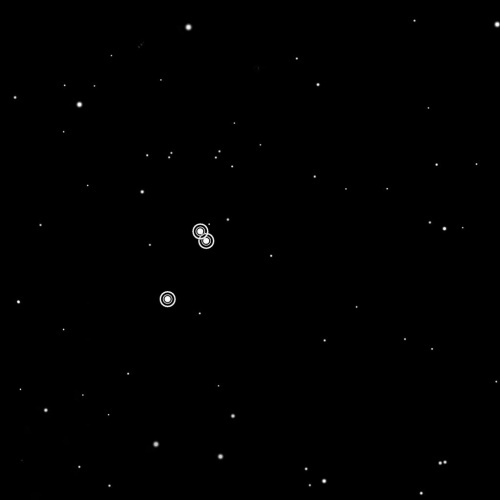canis_minor: (153, 220, 218, 313)
